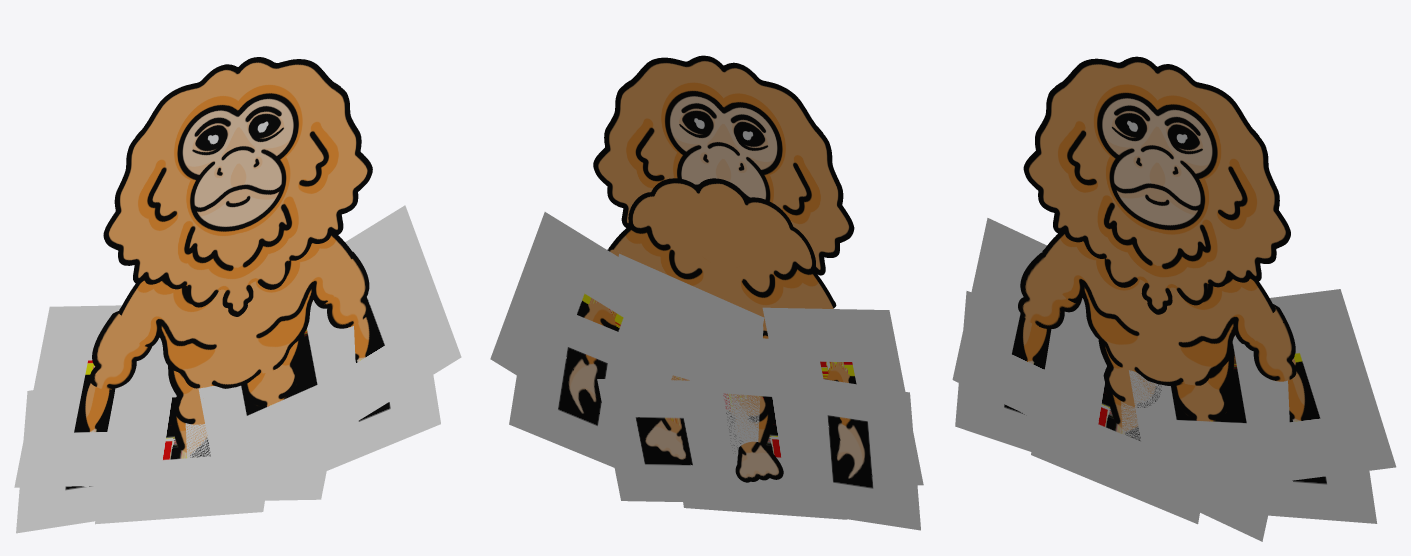
Rendered from Monkey_Rig_02.fbx.
3 renders of one model, left to right at view 1: azimuth 30°, elevation 25°; view 2: azimuth 150°, elevation 25°; view 3: azimuth 330°, elevation 25°, orthographic. The views are drawn at different scales.
Visible parts, largest first — view 1: head, SM_Spine, SM_Knee_L, SM_Elbow_R, SM_Elbow_L, SM_Hip_R, SM_Knee_R, SM_Hand_R, SM_Hand_L, SM_Shoulder_L, SM_Shoulder_R, SM_Foot_R (+1 smaller); view 2: head, SM_Spine, SM_Hand_L, SM_Elbow_R, SM_Hand_R, SM_Foot_R, SM_Elbow_L, SM_Knee_L, SM_Knee_R, SM_Hip_R, SM_Foot_L; view 3: head, SM_Spine, SM_Elbow_R, SM_Knee_L, SM_Hip_R, SM_Elbow_L, SM_Knee_R, SM_Hand_R, SM_Hand_L, SM_Shoulder_L, SM_Shoulder_R, SM_Foot_R (+1 smaller).
Part boxes in pixels (x1,y1,x2,y2): head: (103, 57, 372, 316); SM_Spine: (119, 234, 353, 388); SM_Knee_L: (95, 338, 273, 524); SM_Elbow_R: (345, 205, 461, 420); SM_Elbow_L: (14, 305, 160, 487); SM_Hip_R: (198, 300, 363, 468); SM_Knee_R: (185, 326, 359, 501); SM_Hand_R: (307, 375, 440, 478); SM_Hand_L: (16, 390, 100, 533); SM_Shoulder_L: (89, 311, 151, 389); SM_Shoulder_R: (314, 252, 369, 328); SM_Foot_R: (265, 467, 326, 500); head: (593, 55, 854, 275); SM_Spine: (608, 178, 836, 338); SM_Hand_L: (780, 372, 920, 530); SM_Elbow_R: (490, 212, 698, 380); SM_Hand_R: (509, 295, 657, 467); SM_Foot_R: (597, 379, 731, 502); SM_Elbow_L: (762, 307, 923, 485); SM_Knee_L: (672, 333, 846, 519); SM_Knee_R: (671, 307, 763, 497); SM_Hip_R: (618, 253, 764, 326); SM_Foot_L: (735, 441, 783, 482); head: (1023, 56, 1290, 314); SM_Spine: (1042, 233, 1275, 385); SM_Elbow_R: (1269, 289, 1396, 480); SM_Knee_L: (1031, 298, 1202, 524); SM_Hip_R: (1129, 335, 1292, 463); SM_Elbow_L: (952, 218, 1051, 419); SM_Knee_R: (1121, 380, 1293, 510); SM_Hand_R: (1244, 471, 1377, 523); SM_Hand_L: (955, 291, 1036, 451); SM_Shoulder_L: (1018, 252, 1082, 329); SM_Shoulder_R: (1244, 304, 1296, 381); SM_Foot_R: (1200, 493, 1267, 541).
Bounding box in the file's own units: 17.5 × 18.1 × 0.7773.
